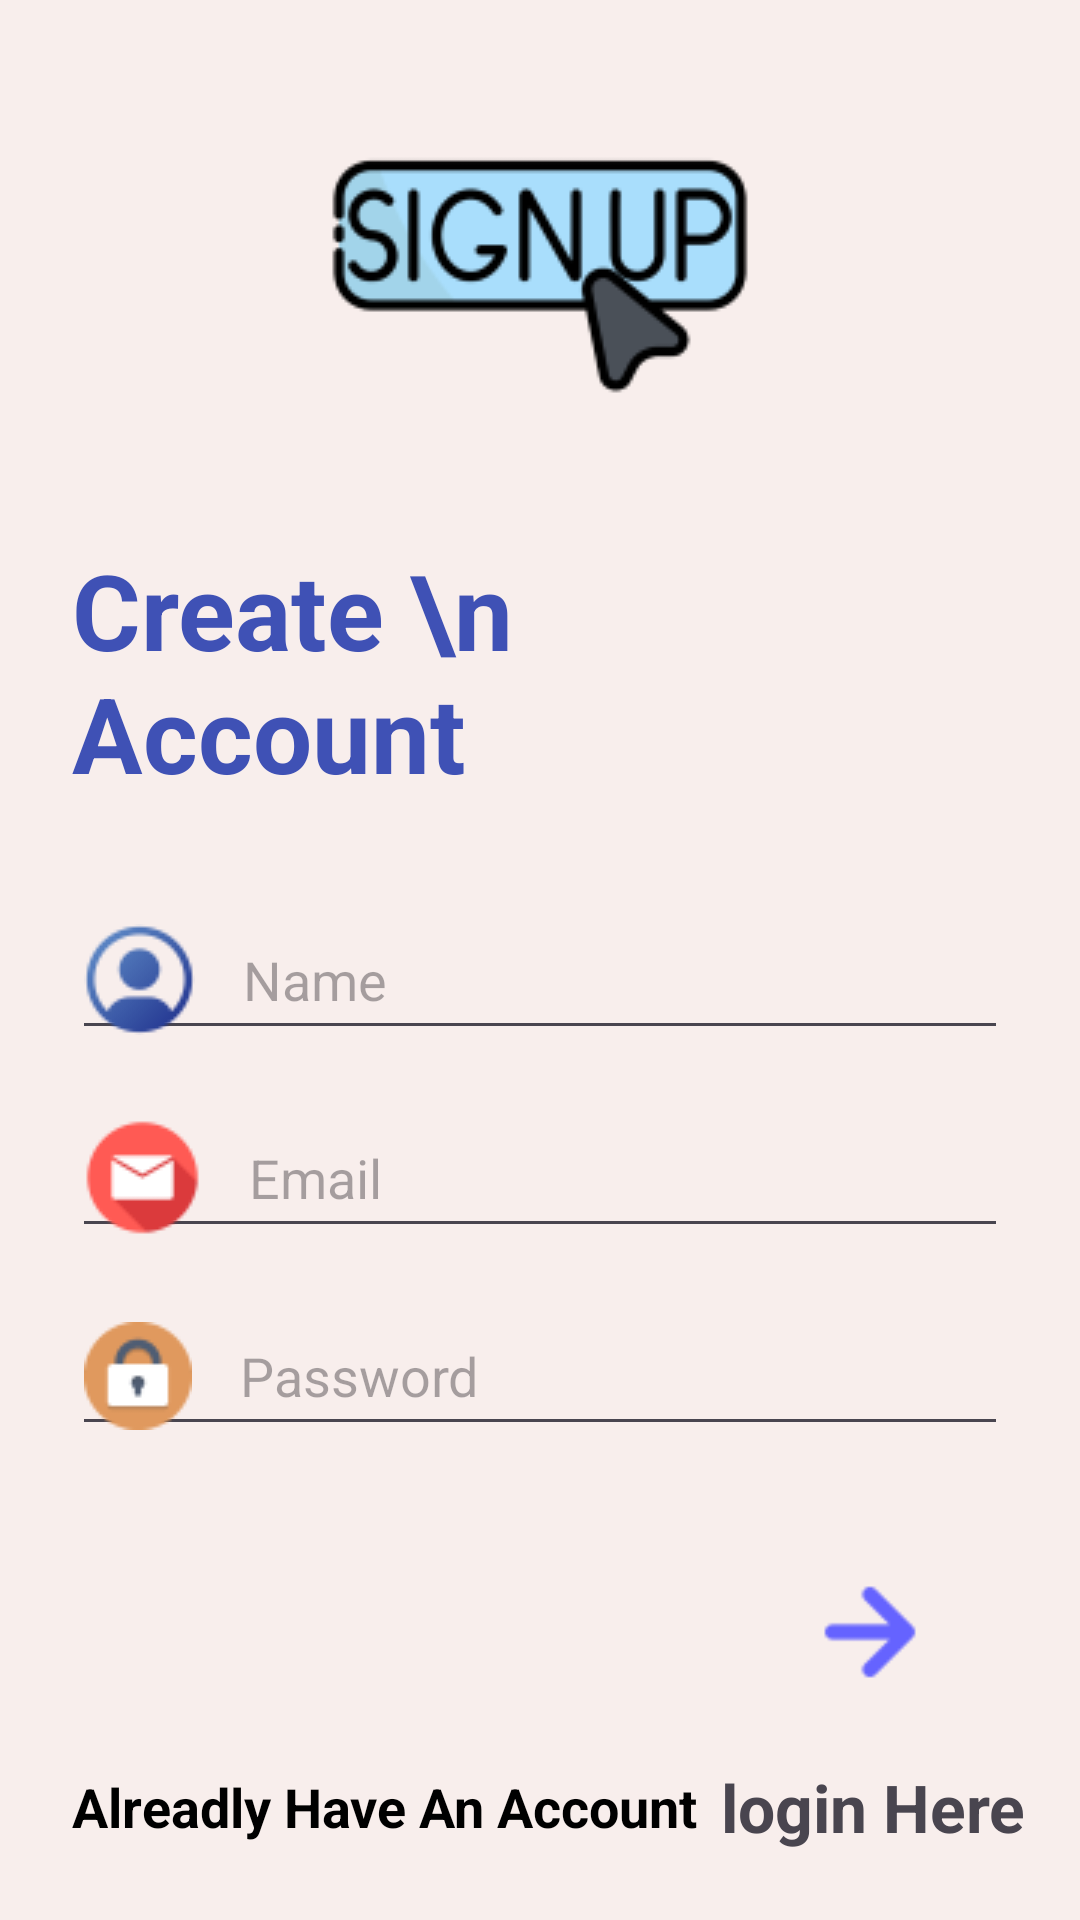

Icon bounding boxes for this 1080w x 1920h phone screenshot, format BBox(x1, y1, x2, y2):
arrow: BBox(824, 1586, 916, 1678)
